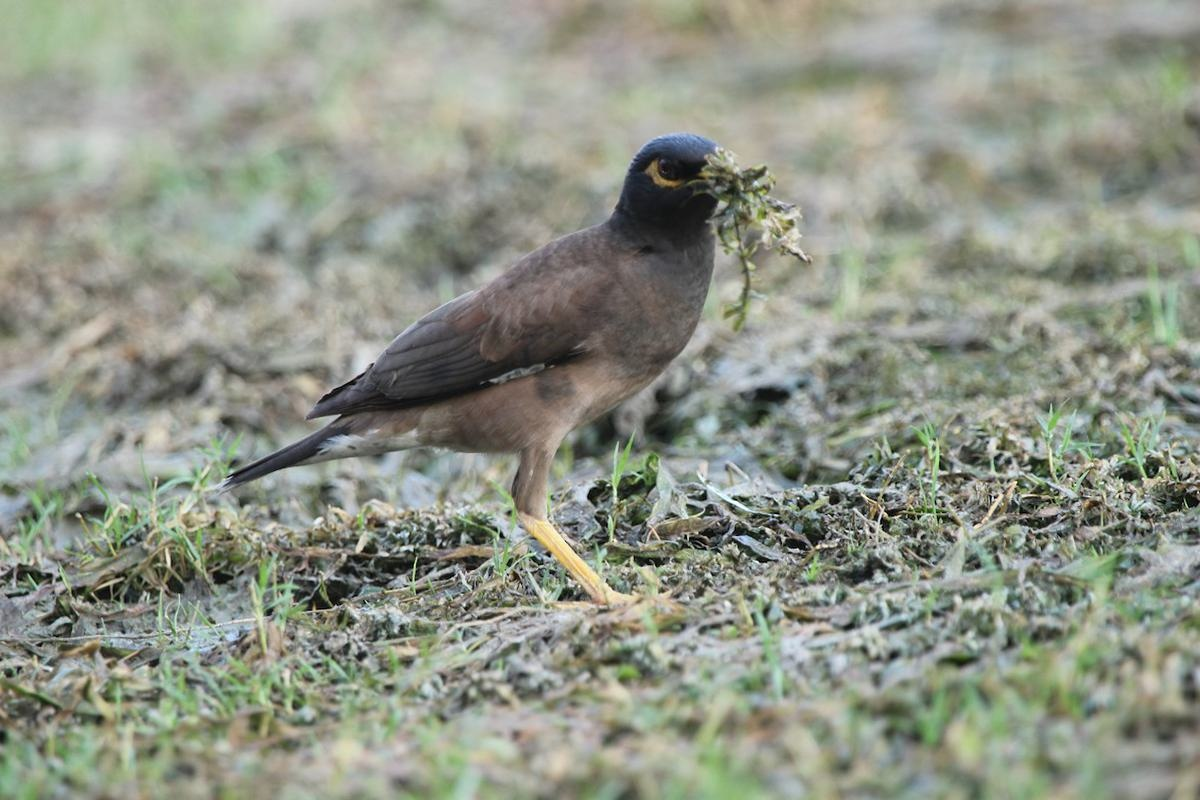myna: (328, 135, 807, 566)
